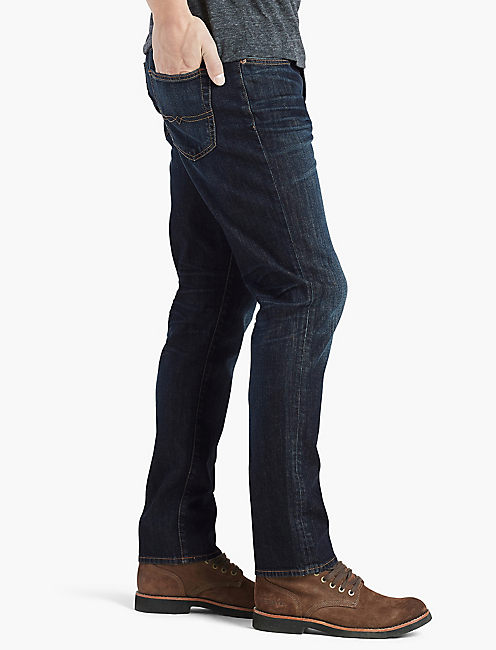jeans: (139, 60, 345, 581)
